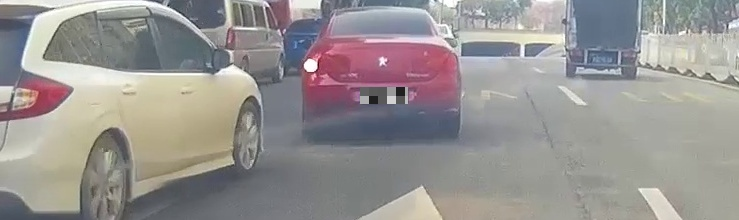L_light: (303, 57, 319, 74)
R_light: (445, 54, 460, 70)
T_light: (371, 10, 395, 15)
day-left: (301, 6, 464, 137)
plate_1: (360, 87, 408, 104)
